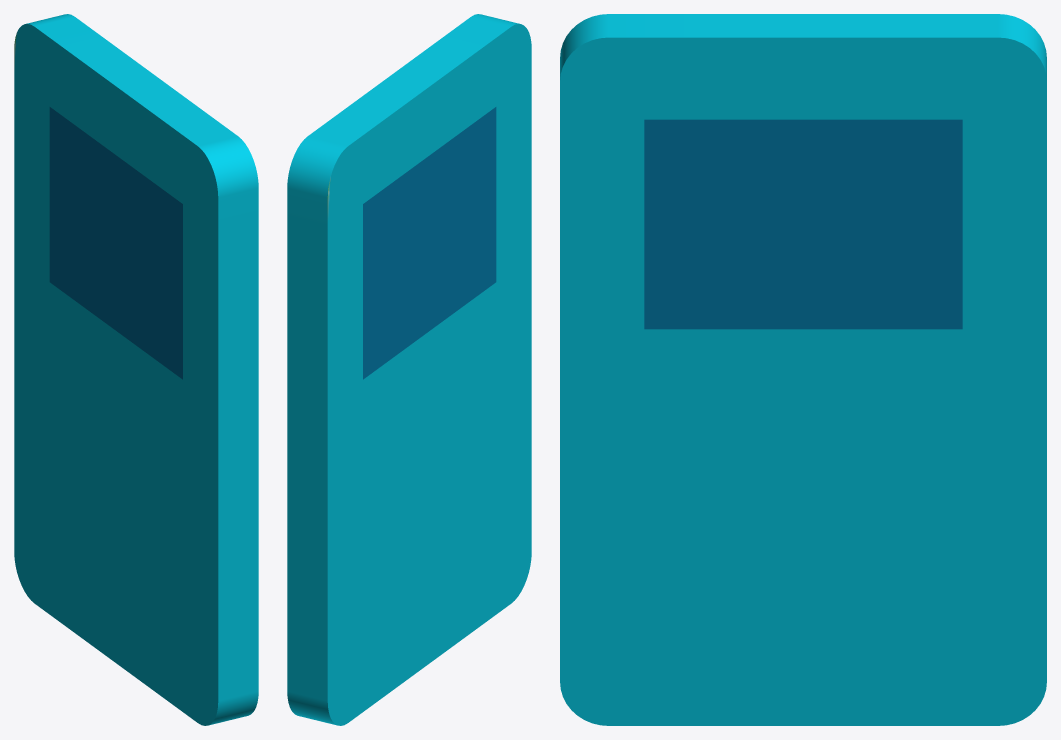
The model's file is keycard_blue.fbx.
The picture shows the model from 3 angles, left to right: view 1: azimuth 30°, elevation 25°; view 2: azimuth 150°, elevation 25°; view 3: azimuth 270°, elevation 25°; orthographic projection. The views are drawn at different scales.
Parts seen in each view (by area): view 1: pCube1; view 2: pCube1; view 3: pCube1.
Part boxes in pixels (x1,y1,x2,y2): pCube1: (14, 14, 258, 725); pCube1: (287, 14, 531, 725); pCube1: (560, 14, 1046, 725).
Bounding box in the file's own units: 0.4379 × 5.96 × 3.82.
Materials: 1 (1 with a texture image).
